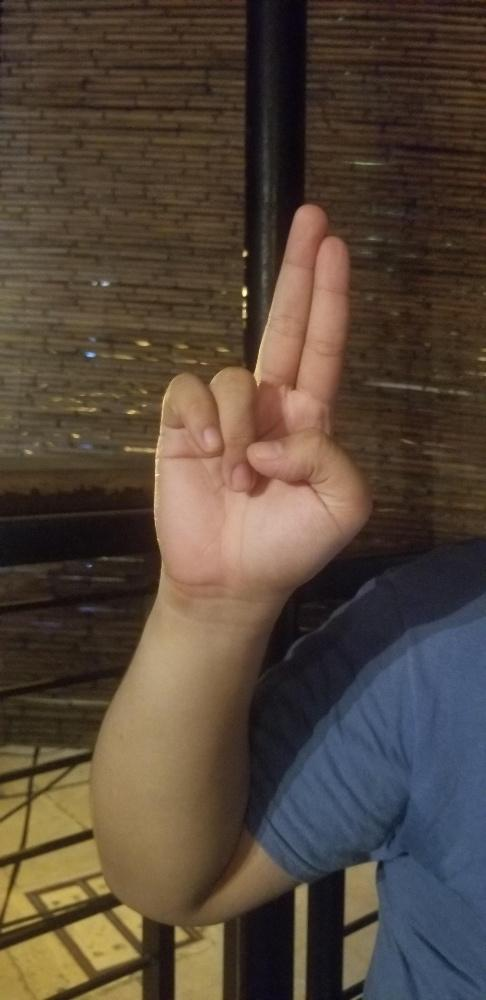u: (153, 199, 370, 585)
